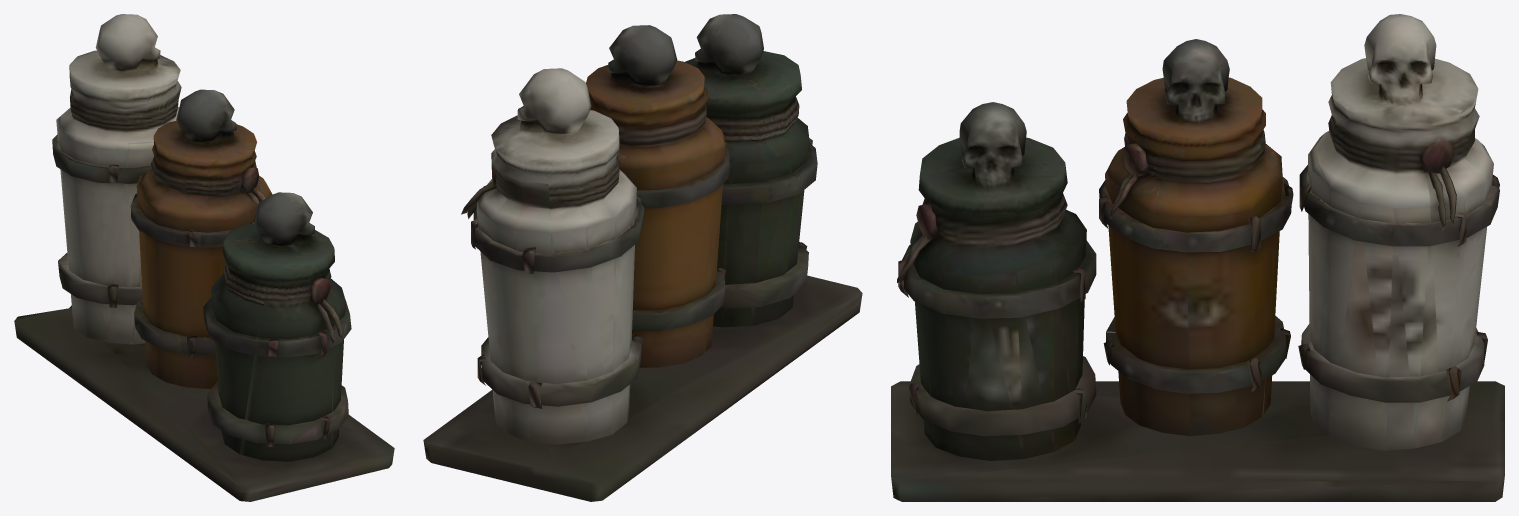
Rendered from alch_canopic_jars.glb.
3 views of the same model, side by side, from view 1: azimuth 30°, elevation 25°; view 2: azimuth 150°, elevation 25°; view 3: azimuth 270°, elevation 25° (orthographic). The views are drawn at different scales.
Visible parts, largest first — view 1: tripo_node_0992584b-cf75-4387-a209-8c378422c2a4; view 2: tripo_node_0992584b-cf75-4387-a209-8c378422c2a4; view 3: tripo_node_0992584b-cf75-4387-a209-8c378422c2a4.
Boxes of the visible parts, box(x1,y1,x2,y2) form: tripo_node_0992584b-cf75-4387-a209-8c378422c2a4: box(14, 14, 394, 501); tripo_node_0992584b-cf75-4387-a209-8c378422c2a4: box(423, 14, 862, 501); tripo_node_0992584b-cf75-4387-a209-8c378422c2a4: box(891, 14, 1504, 501).
Size of the model in its own units: 0.3848 by 0.7794 by 0.998.
Materials: 1 (1 with a texture image).
